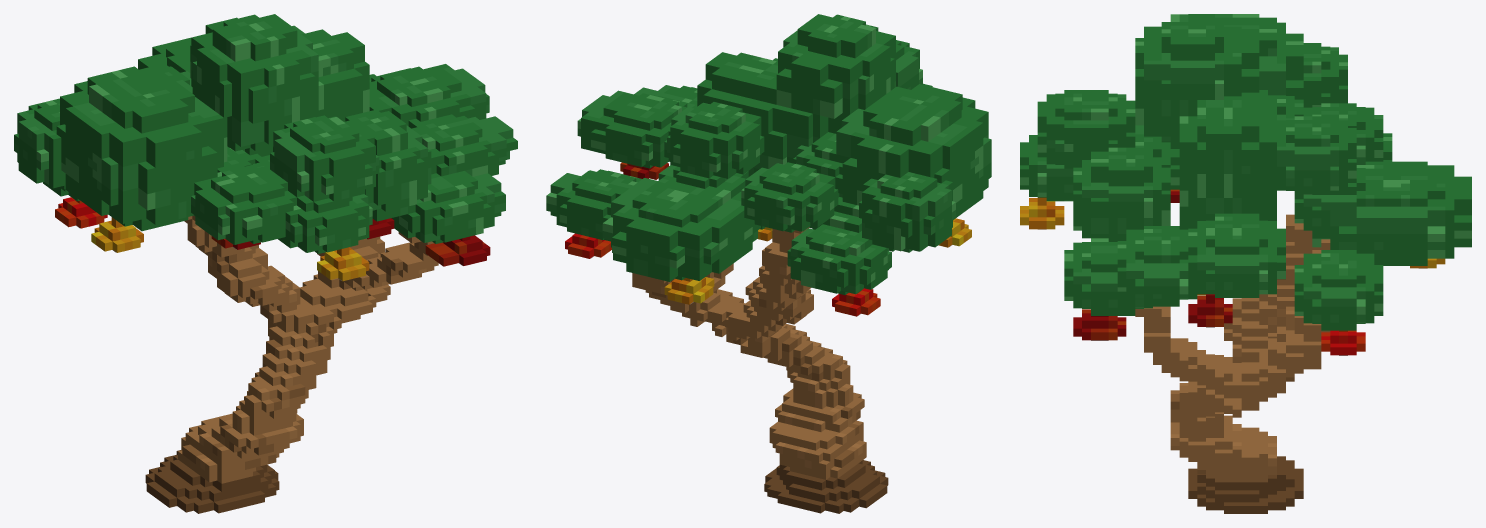
File: 1_1 caju.obj
3 views of the same model, side by side, from view 1: azimuth 30°, elevation 25°; view 2: azimuth 150°, elevation 25°; view 3: azimuth 270°, elevation 25° (orthographic). The views are drawn at different scales.
Size of the model in its own units: 5.3 by 5.8 by 5.1.
1 material, 1 textured.
